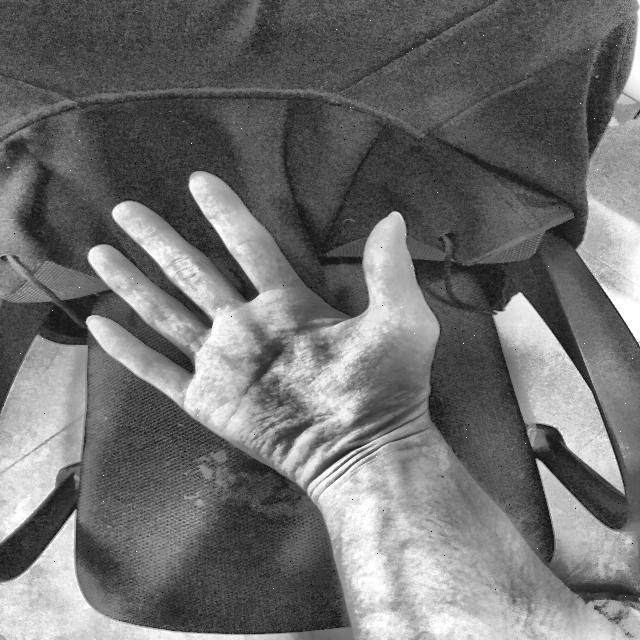not-gloved: (62, 152, 482, 518)
